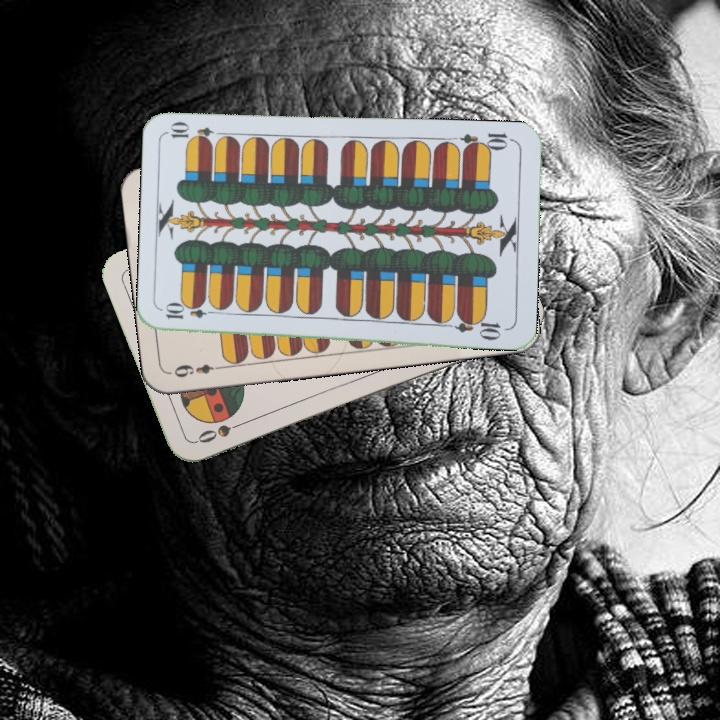E10: (457, 129, 516, 155), (161, 303, 220, 322)
E9: (170, 359, 226, 381)
SO: (192, 417, 249, 446)
